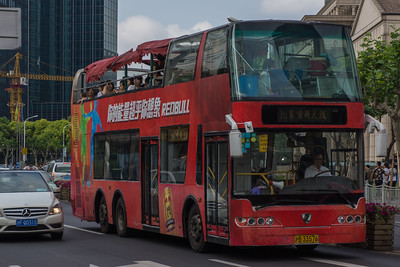bus: (66, 19, 367, 251)
car: (1, 169, 64, 239)
